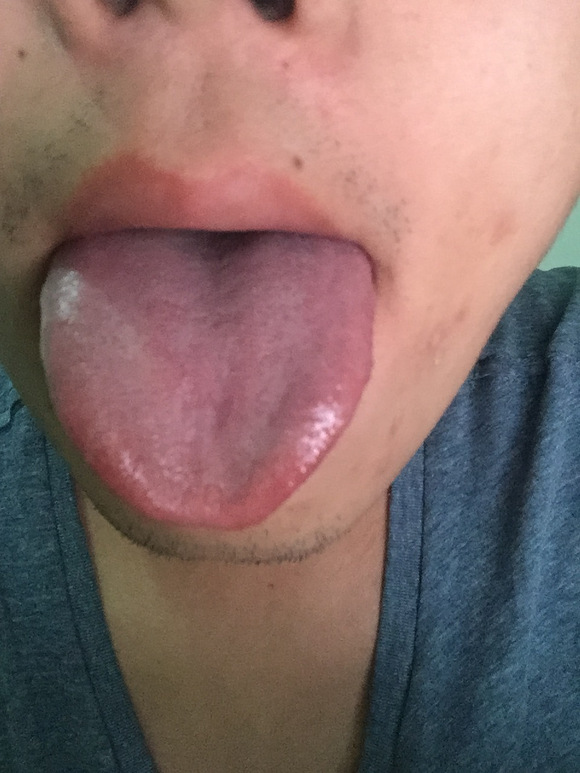shenquao: (141, 229, 297, 283)
zishe: (40, 229, 372, 530)
